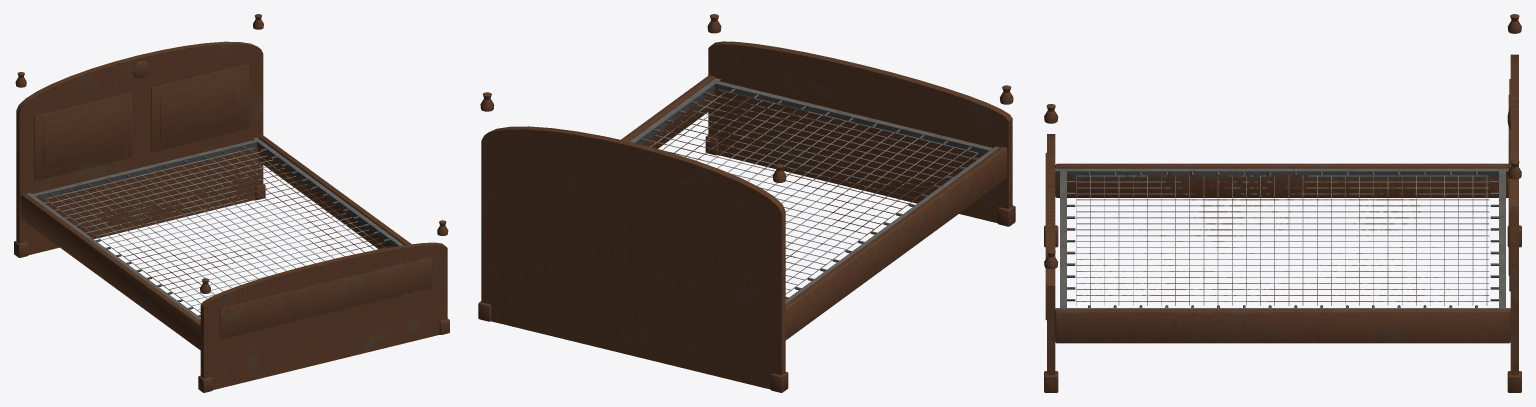
Rendered from SM_Bed_Double_Wooden.fbx.
The picture shows the model from 3 angles, left to right: view 1: azimuth 30°, elevation 25°; view 2: azimuth 150°, elevation 25°; view 3: azimuth 270°, elevation 25°; orthographic projection. The views are drawn at different scales.
Visible parts, largest first — view 1: SM_Bed_Double_Wooden; view 2: SM_Bed_Double_Wooden; view 3: SM_Bed_Double_Wooden.
Part boxes in pixels (left/top/right/bottom): SM_Bed_Double_Wooden: left=14, top=14, right=449, bottom=392; SM_Bed_Double_Wooden: left=478, top=14, right=1015, bottom=392; SM_Bed_Double_Wooden: left=1044, top=14, right=1521, bottom=392.
Size of the model in its own units: 1.52 by 1.08 by 2.03.
1 material, 1 textured.
